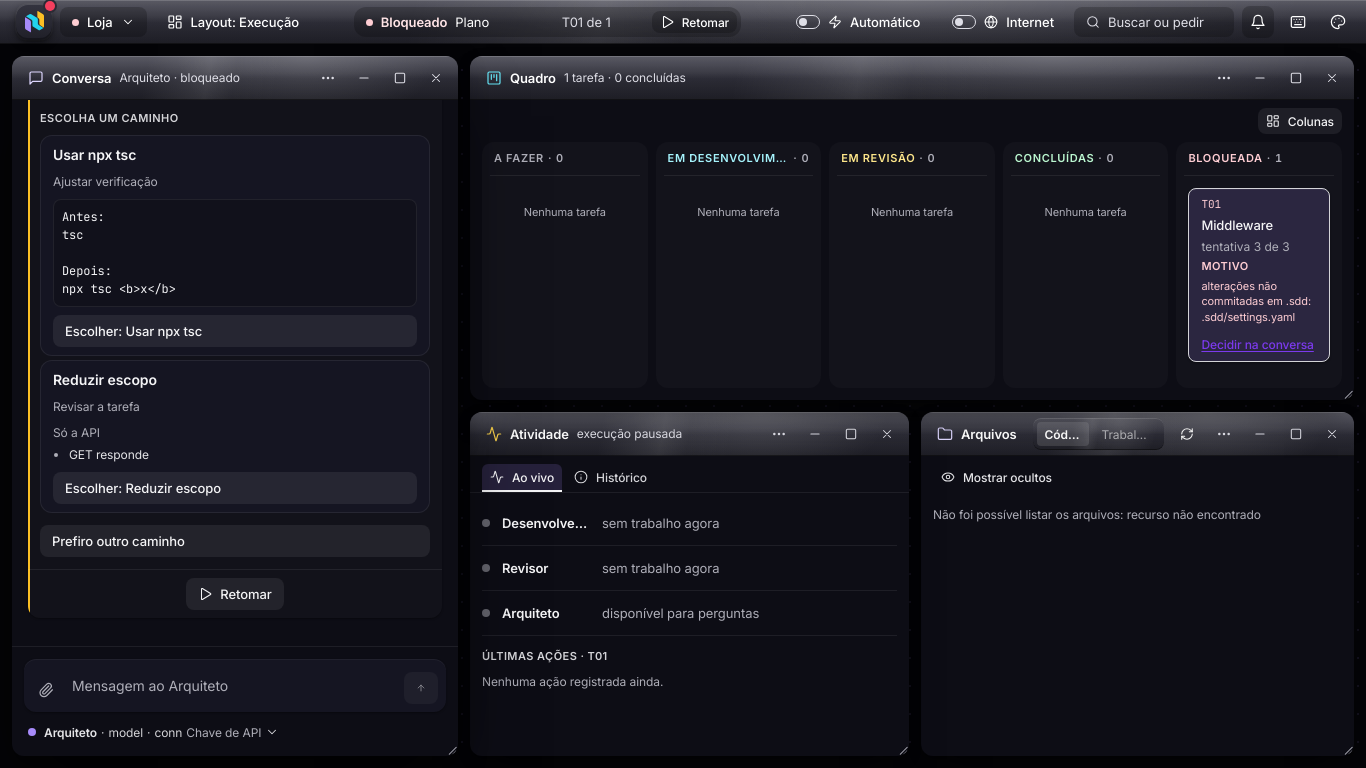
it: Execução pausada: opções de recuperação › 409 de orçamento mostra o motivo em role=alert; nada é aplicado
(page scrolled)
Click the button "Escolher: Usar npx tsc". click: [134, 331]
box: [53, 315, 417, 347]
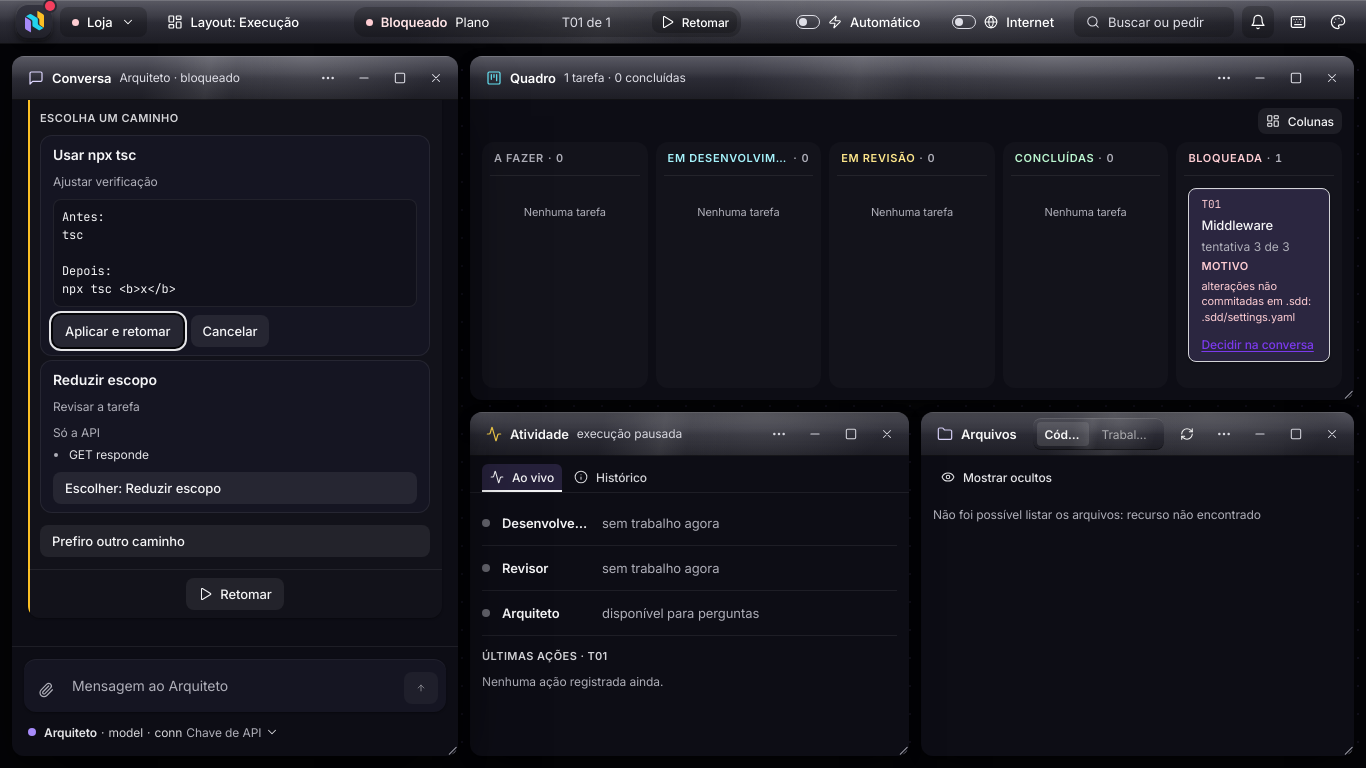
Click the button "Aplicar e retomar". click: [118, 331]
box: [53, 315, 182, 347]
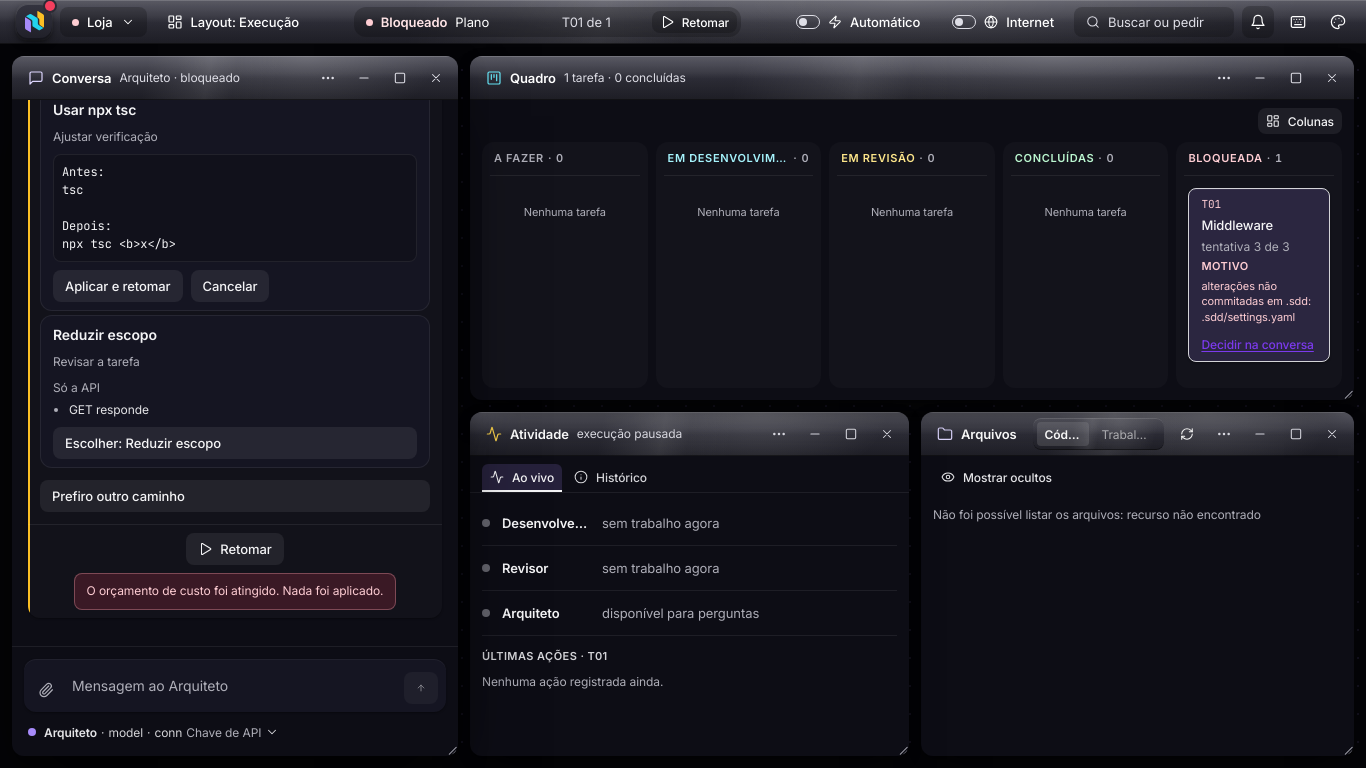
Expected: the message "O orçamento de custo foi atingido. Nada foi aplicado." is shown, [74, 573, 396, 610]
